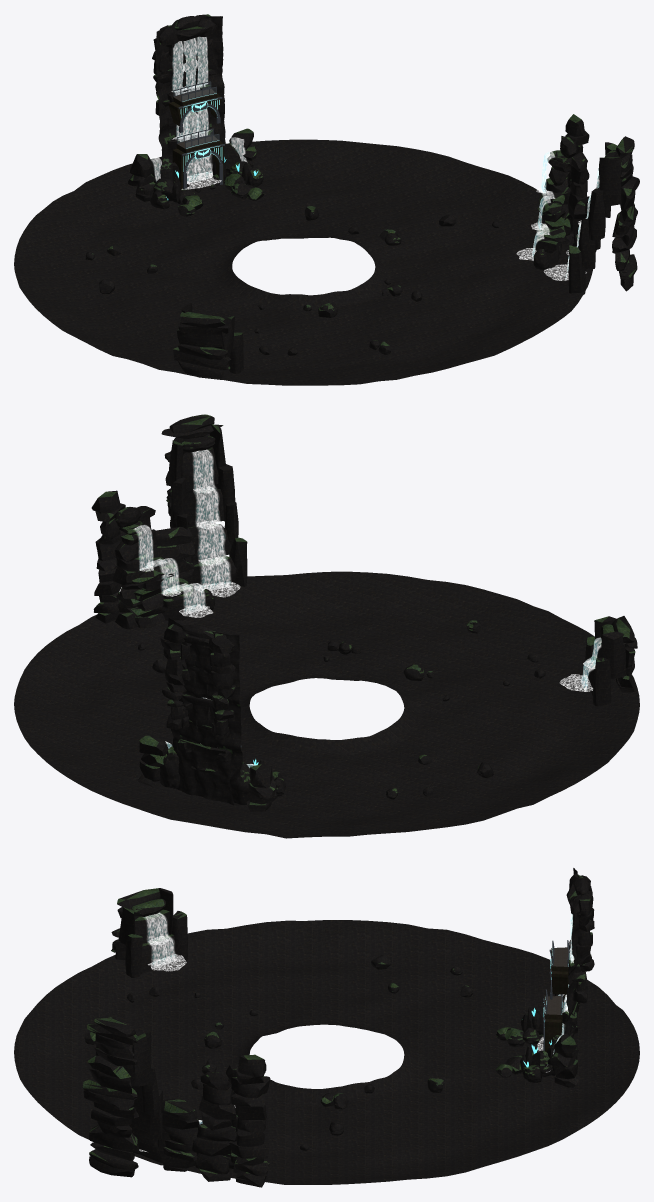
File: area_agua.glb
3 views of the same model, one above another, from view 1: azimuth 30°, elevation 25°; view 2: azimuth 150°, elevation 25°; view 3: azimuth 270°, elevation 25° (orthographic). The views are drawn at different scales.
Visible parts, largest first — view 1: A_AGUA_fundo_lago, A_AGUA_leito_central, A_AGUA_r_direita_borda0_2, A_AGUA_r_direita_borda1_2, A_AGUA_r_direita_borda3_2, AGUA_central_3, A_AGUA_r_direita_borda2_2, A_AGUA_r_esquerda_pen_1, A_AGUA_r_esquerda_pen_3, AGUA_central_1_1, A_AGUA_ponte_inf_corpo, A_AGUA_r_esquerda_pen_5 (+1 smaller); view 2: A_AGUA_fundo_lago, A_AGUA_leito_central, AGUA_direita, A_AGUA_r_direita_deg0, A_AGUA_r_direita_deg2, A_AGUA_r_direita_deg3, A_AGUA_r_direita_deg1, A_AGUA_r_esquerda_borda0_2, A_AGUA_r_esquerda_borda1_2, A_AGUA_r_direita_borda3_2, A_AGUA_r_pe_80, A_AGUA_r_pe_88 (+6 smaller); view 3: A_AGUA_fundo_lago, AGUA_esquerda, A_AGUA_r_esquerda_deg1, A_AGUA_r_direita_borda0_0, A_AGUA_r_esquerda_deg0, A_AGUA_leito_central, A_AGUA_r_direita_pen_3, A_AGUA_r_esquerda_borda1_0, A_AGUA_r_esquerda_borda1_2, A_AGUA_r_direita_borda1_0, A_AGUA_r_cascata_paredao2_5, A_AGUA_r_cascata_paredao1_2 (+16 smaller).
Part boxes in pixels (bbox=[...]): A_AGUA_fundo_lago: bbox=[14, 139, 592, 385]; A_AGUA_leito_central: bbox=[156, 16, 225, 183]; A_AGUA_r_direita_borda0_2: bbox=[598, 157, 621, 206]; A_AGUA_r_direita_borda1_2: bbox=[588, 188, 605, 240]; A_AGUA_r_direita_borda3_2: bbox=[568, 245, 585, 294]; AGUA_central_3: bbox=[178, 131, 212, 183]; A_AGUA_r_direita_borda2_2: bbox=[578, 218, 595, 268]; A_AGUA_r_esquerda_pen_1: bbox=[173, 347, 230, 369]; A_AGUA_r_esquerda_pen_3: bbox=[177, 329, 222, 347]; AGUA_central_1_1: bbox=[183, 38, 197, 89]; A_AGUA_ponte_inf_corpo: bbox=[172, 139, 223, 189]; A_AGUA_r_esquerda_pen_5: bbox=[179, 311, 226, 327]; A_AGUA_fundo_lago: bbox=[14, 571, 639, 838]; A_AGUA_leito_central: bbox=[167, 618, 242, 805]; AGUA_direita: bbox=[192, 449, 230, 590]; A_AGUA_r_direita_deg0: bbox=[181, 447, 218, 491]; A_AGUA_r_direita_deg2: bbox=[188, 524, 231, 562]; A_AGUA_r_direita_deg3: bbox=[192, 556, 236, 593]; A_AGUA_r_direita_deg1: bbox=[184, 489, 224, 524]; A_AGUA_r_esquerda_borda0_2: bbox=[601, 631, 626, 678]; A_AGUA_r_esquerda_borda1_2: bbox=[592, 657, 611, 706]; A_AGUA_r_direita_borda3_2: bbox=[229, 537, 247, 586]; A_AGUA_r_pe_80: bbox=[229, 762, 250, 804]; A_AGUA_r_pe_88: bbox=[160, 746, 179, 787]; A_AGUA_fundo_lago: bbox=[14, 920, 639, 1184]; AGUA_esquerda: bbox=[143, 912, 176, 967]; A_AGUA_r_esquerda_deg1: bbox=[140, 934, 176, 973]; A_AGUA_r_direita_borda0_0: bbox=[132, 1032, 151, 1086]; A_AGUA_r_esquerda_deg0: bbox=[135, 909, 169, 943]; A_AGUA_leito_central: bbox=[565, 868, 581, 1037]; A_AGUA_r_direita_pen_3: bbox=[88, 1125, 139, 1152]; A_AGUA_r_esquerda_borda1_0: bbox=[125, 934, 142, 977]; A_AGUA_r_esquerda_borda1_2: bbox=[172, 911, 187, 961]; A_AGUA_r_direita_borda1_0: bbox=[141, 1064, 159, 1115]; A_AGUA_r_cascata_paredao2_5: bbox=[161, 1098, 197, 1121]; A_AGUA_r_cascata_paredao1_2: bbox=[192, 1136, 231, 1156].
Size of the model in its own units: 94 by 30.87 by 94.
Materials: 10 (6 with a texture image).
